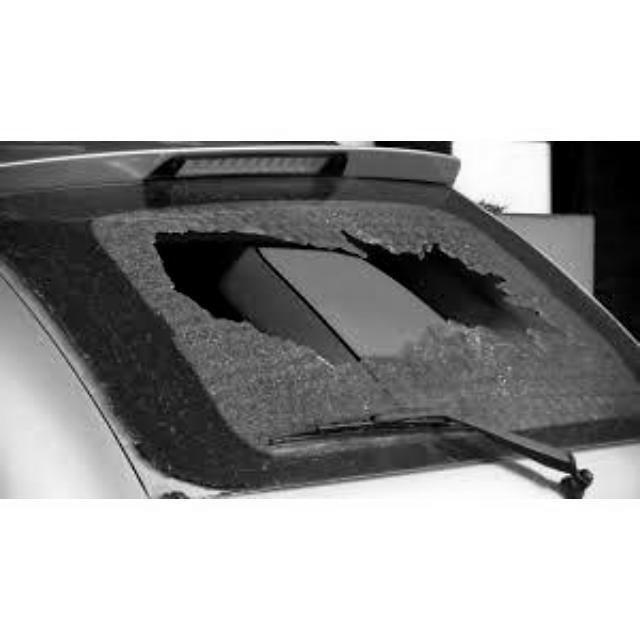Rear-windscreen-Damage: (109, 195, 563, 404)
